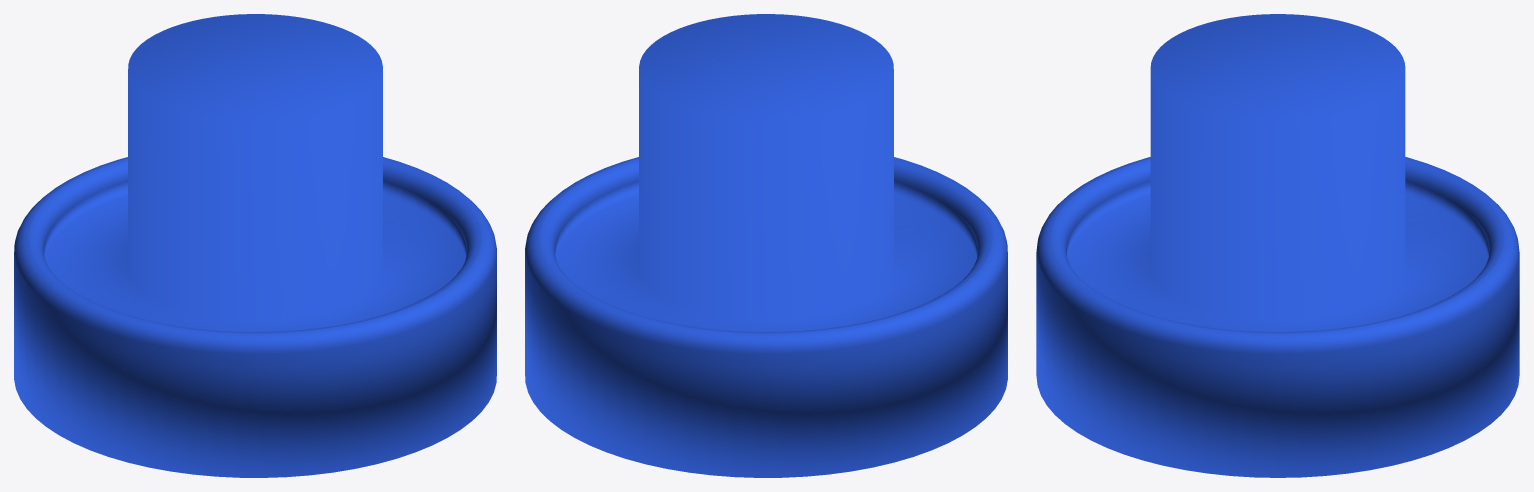
Rendered from paddle.glb.
The picture shows the model from 3 angles, left to right: view 1: azimuth 30°, elevation 25°; view 2: azimuth 150°, elevation 25°; view 3: azimuth 270°, elevation 25°; orthographic projection.
Parts seen in each view (by area): view 1: Cylinder; view 2: Cylinder; view 3: Cylinder.
Part boxes in pixels (bbox=[...]): Cylinder: bbox=[14, 14, 496, 477]; Cylinder: bbox=[525, 14, 1007, 477]; Cylinder: bbox=[1036, 14, 1519, 477].
Size of the model in its own units: 2 by 1.41 by 2.
